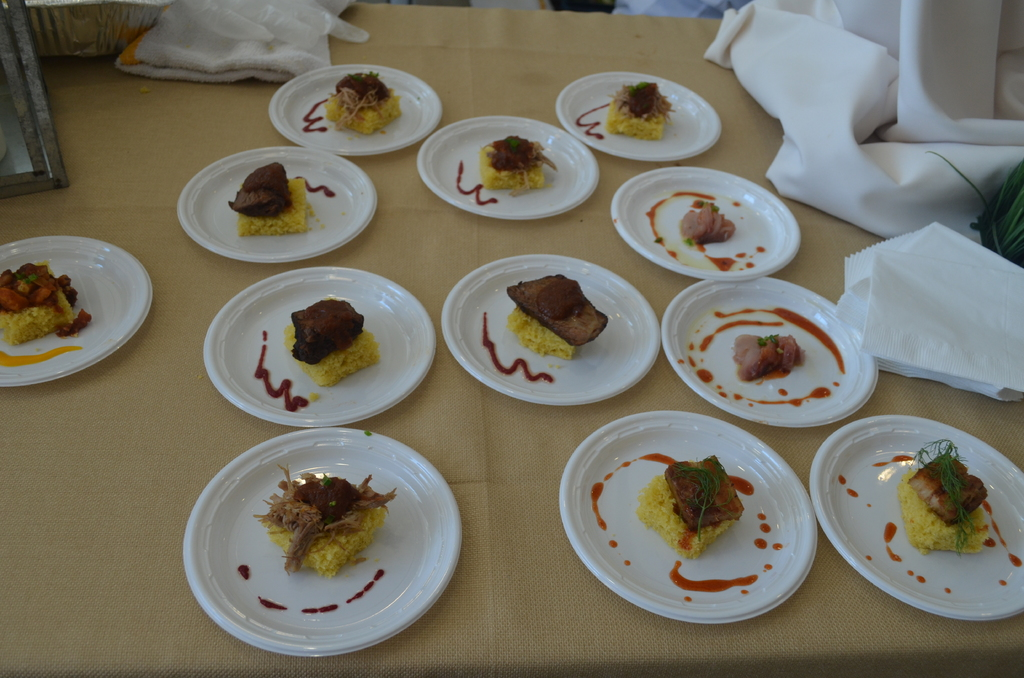plate: (663, 269, 883, 445), (602, 151, 825, 281), (555, 67, 728, 173), (417, 122, 600, 217)
